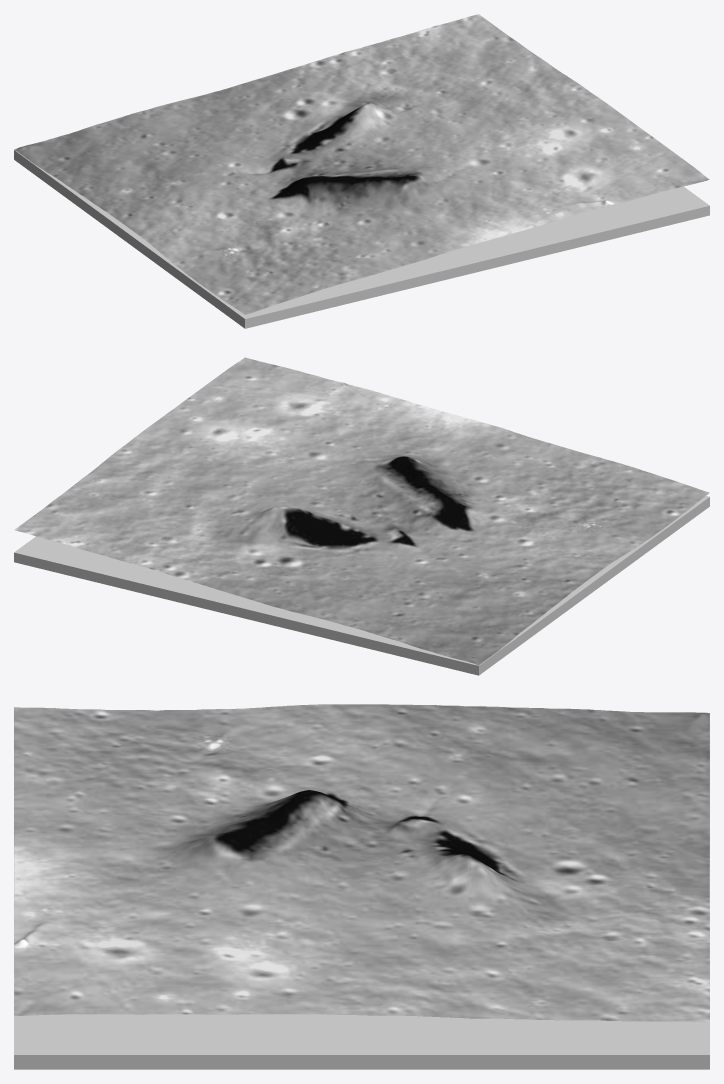
The model's file is smoothed_horizontal_terrain_am.glb.
3 views of the same model, one above another, from view 1: azimuth 30°, elevation 25°; view 2: azimuth 150°, elevation 25°; view 3: azimuth 270°, elevation 25° (orthographic). The views are drawn at different scales.
Visible parts, largest first — view 1: Smoothed_Terrain_XZ_horizontal, Base; view 2: Smoothed_Terrain_XZ_horizontal, Base; view 3: Smoothed_Terrain_XZ_horizontal, Base.
Boxes of the visible parts, x1,y1,x2,y2 form: Smoothed_Terrain_XZ_horizontal: [14, 14, 709, 314]; Base: [14, 150, 709, 328]; Smoothed_Terrain_XZ_horizontal: [14, 357, 709, 665]; Base: [14, 496, 709, 675]; Smoothed_Terrain_XZ_horizontal: [14, 704, 709, 1021]; Base: [14, 1014, 709, 1069].
Size of the model in its own units: 1 by 0.0905 by 0.8612.
2 materials, 1 textured.
